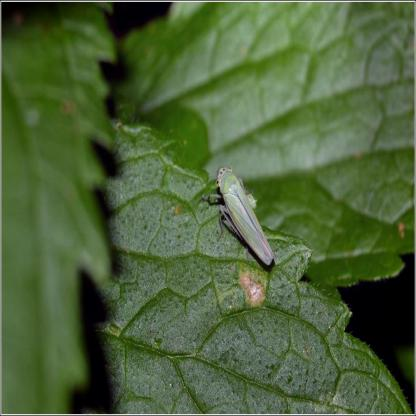Green-Leafhopper: (208, 159, 279, 273)
